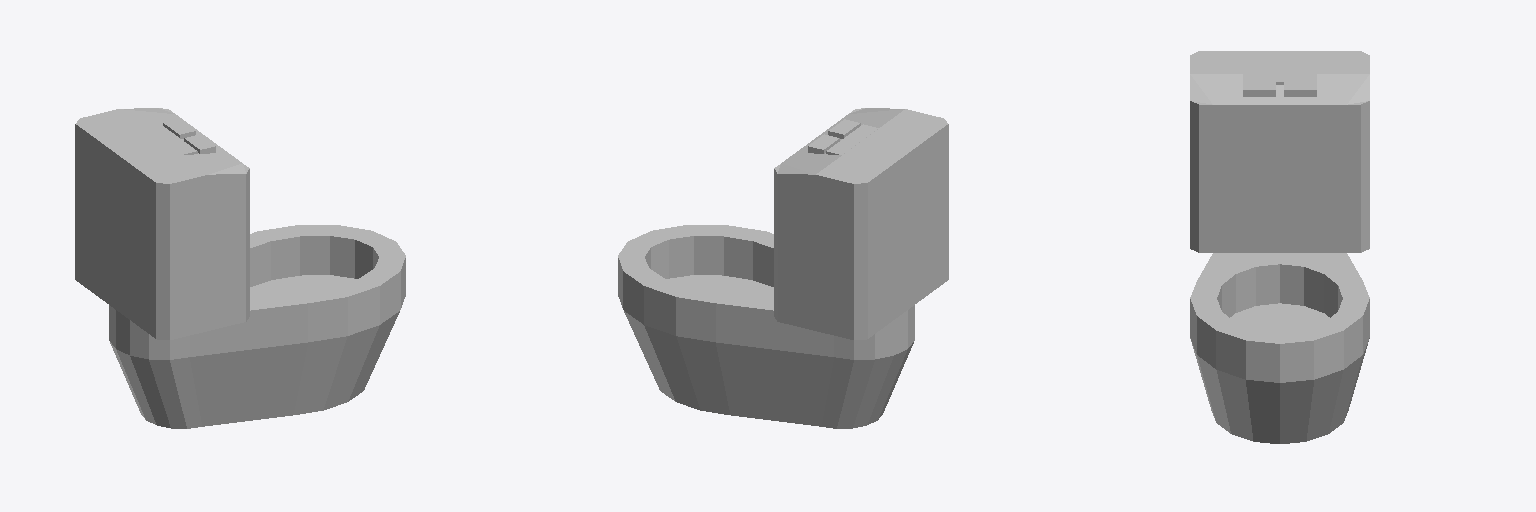
The model's file is Toilet.obj.
3 views of the same model, side by side, from view 1: azimuth 30°, elevation 25°; view 2: azimuth 150°, elevation 25°; view 3: azimuth 270°, elevation 25° (orthographic).
Visible parts, largest first — view 1: SELECT_Toilet; view 2: SELECT_Toilet; view 3: SELECT_Toilet.
Part boxes in pixels (x1,y1,x2,y2): SELECT_Toilet: (75,108,405,428); SELECT_Toilet: (618,108,948,428); SELECT_Toilet: (1190,51,1369,443).
Size of the model in its own units: 72 by 67.56 by 40.